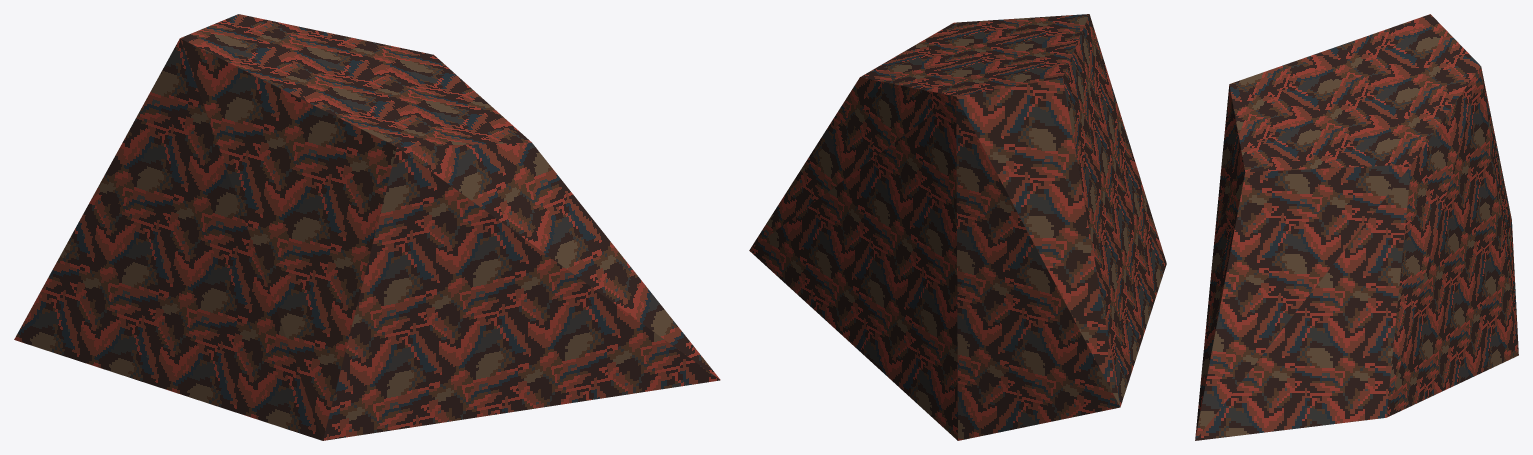
File: Blockade2.fbx
3 renders of one model, left to right at view 1: azimuth 30°, elevation 25°; view 2: azimuth 150°, elevation 25°; view 3: azimuth 270°, elevation 25°, orthographic. The views are drawn at different scales.
Parts seen in each view (by area): view 1: Junk Mesh (1); view 2: Junk Mesh (1); view 3: Junk Mesh (1).
Boxes of the visible parts, box(x1,y1,x2,y2) form: Junk Mesh (1): box(14, 14, 720, 440); Junk Mesh (1): box(749, 14, 1166, 440); Junk Mesh (1): box(1195, 14, 1518, 440).
Bounding box in the file's own units: 5.94 × 4.31 × 4.01.
